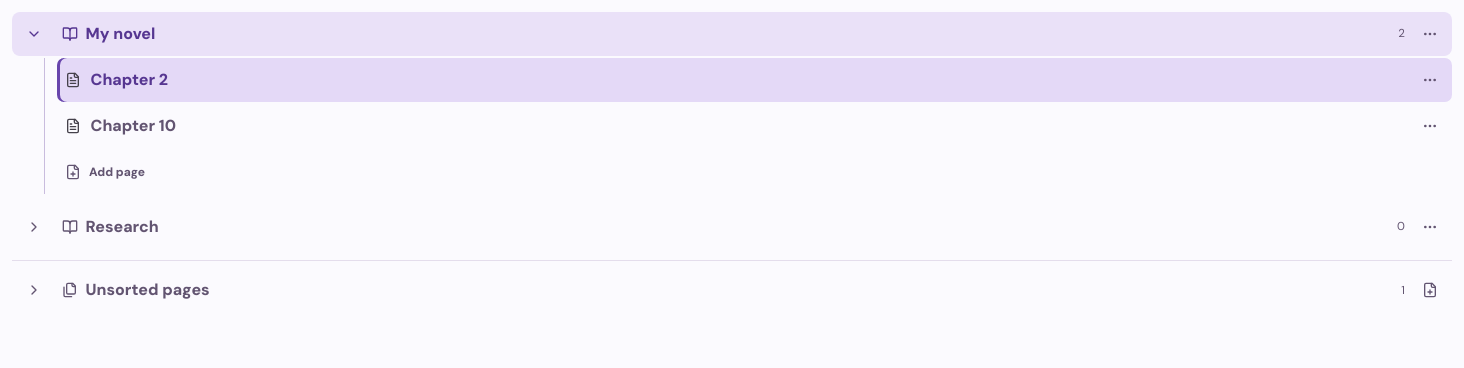
Test: flat Library tree › renames a book inline with Enter
Click the button named "Manage My novel" at (1430, 34), box [1408,12,1452,56]
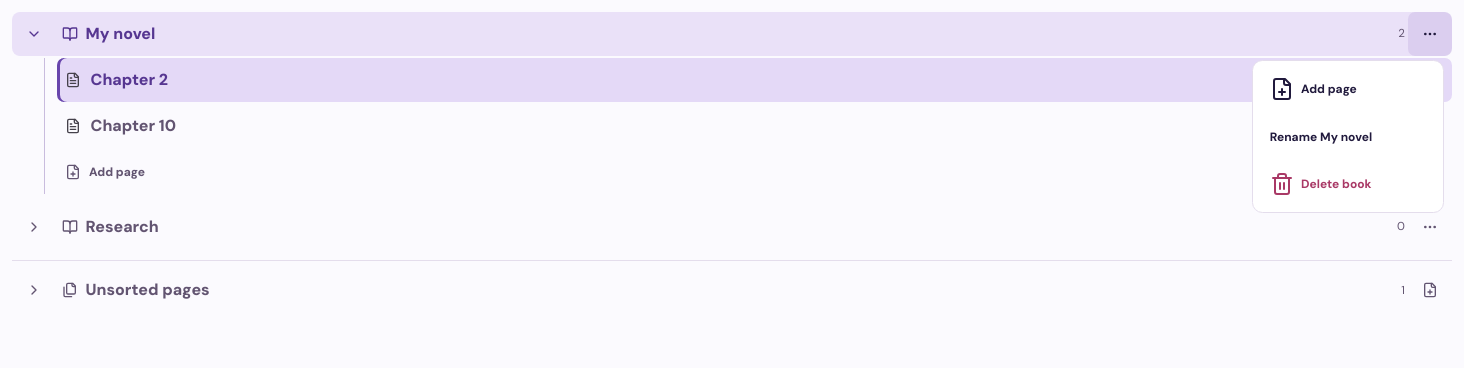
Click the menu item "Rename My novel" at (1348, 137), box [1259,115,1437,159]
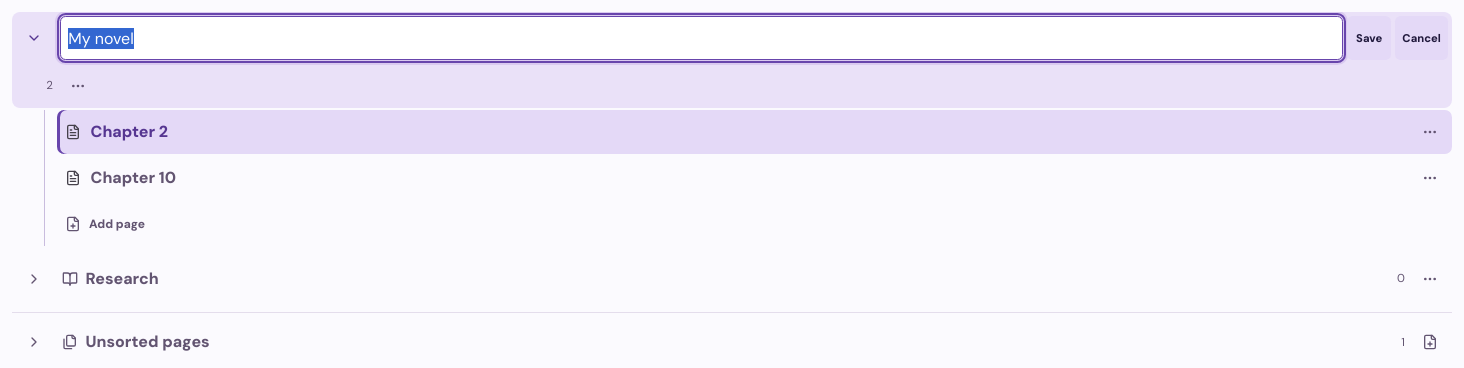
Replace the text in the field named "Rename My novel" with "Draft novel" at (702, 38), box [60,16,1343,60]
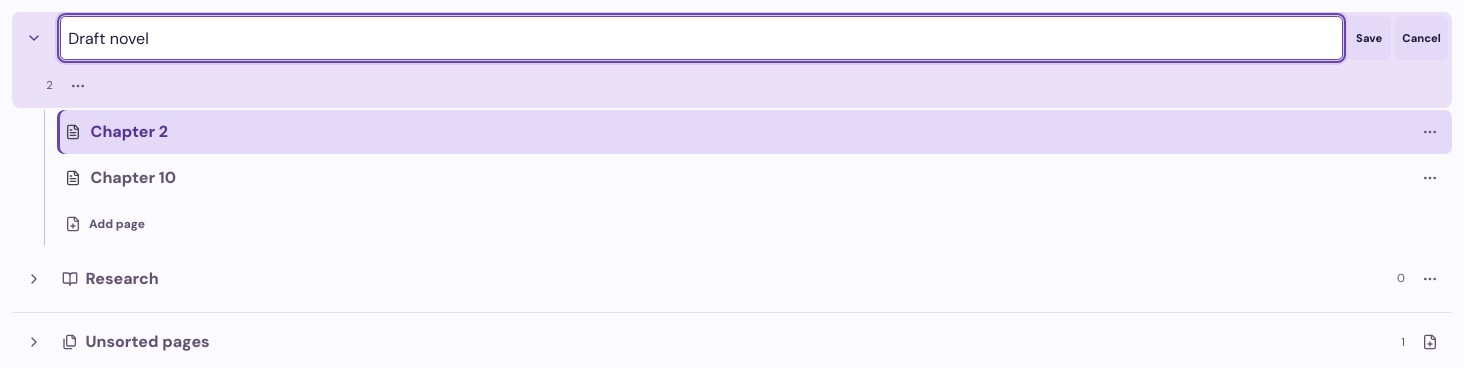
Press Enter in the field named "Rename My novel", box [60,16,1343,60]
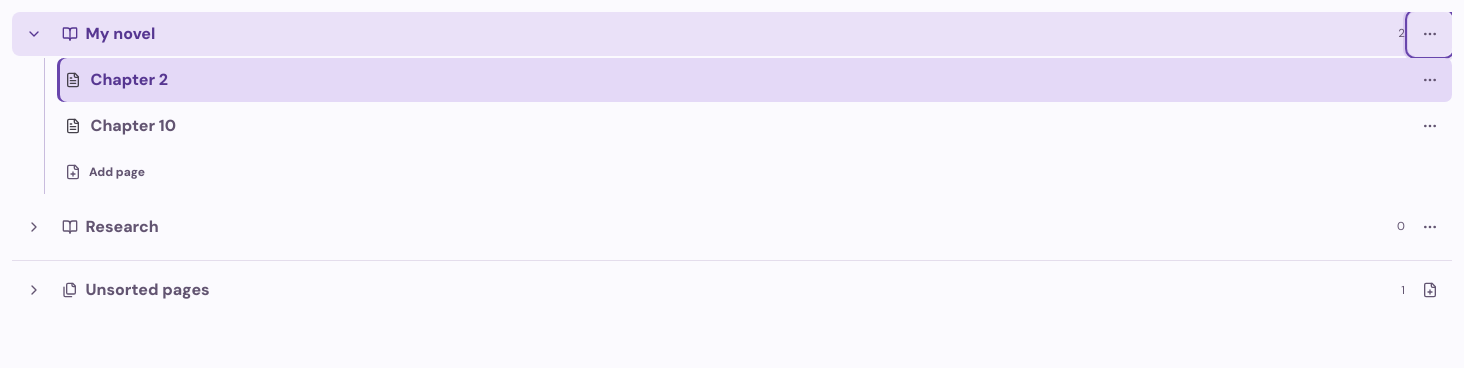
Check: the button with aria-label "Open My novel book" is shown, box [56,12,1382,56]
